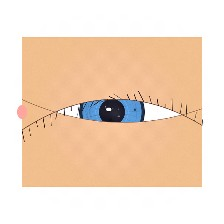pinguecula_lesion: (44, 105, 75, 129)
